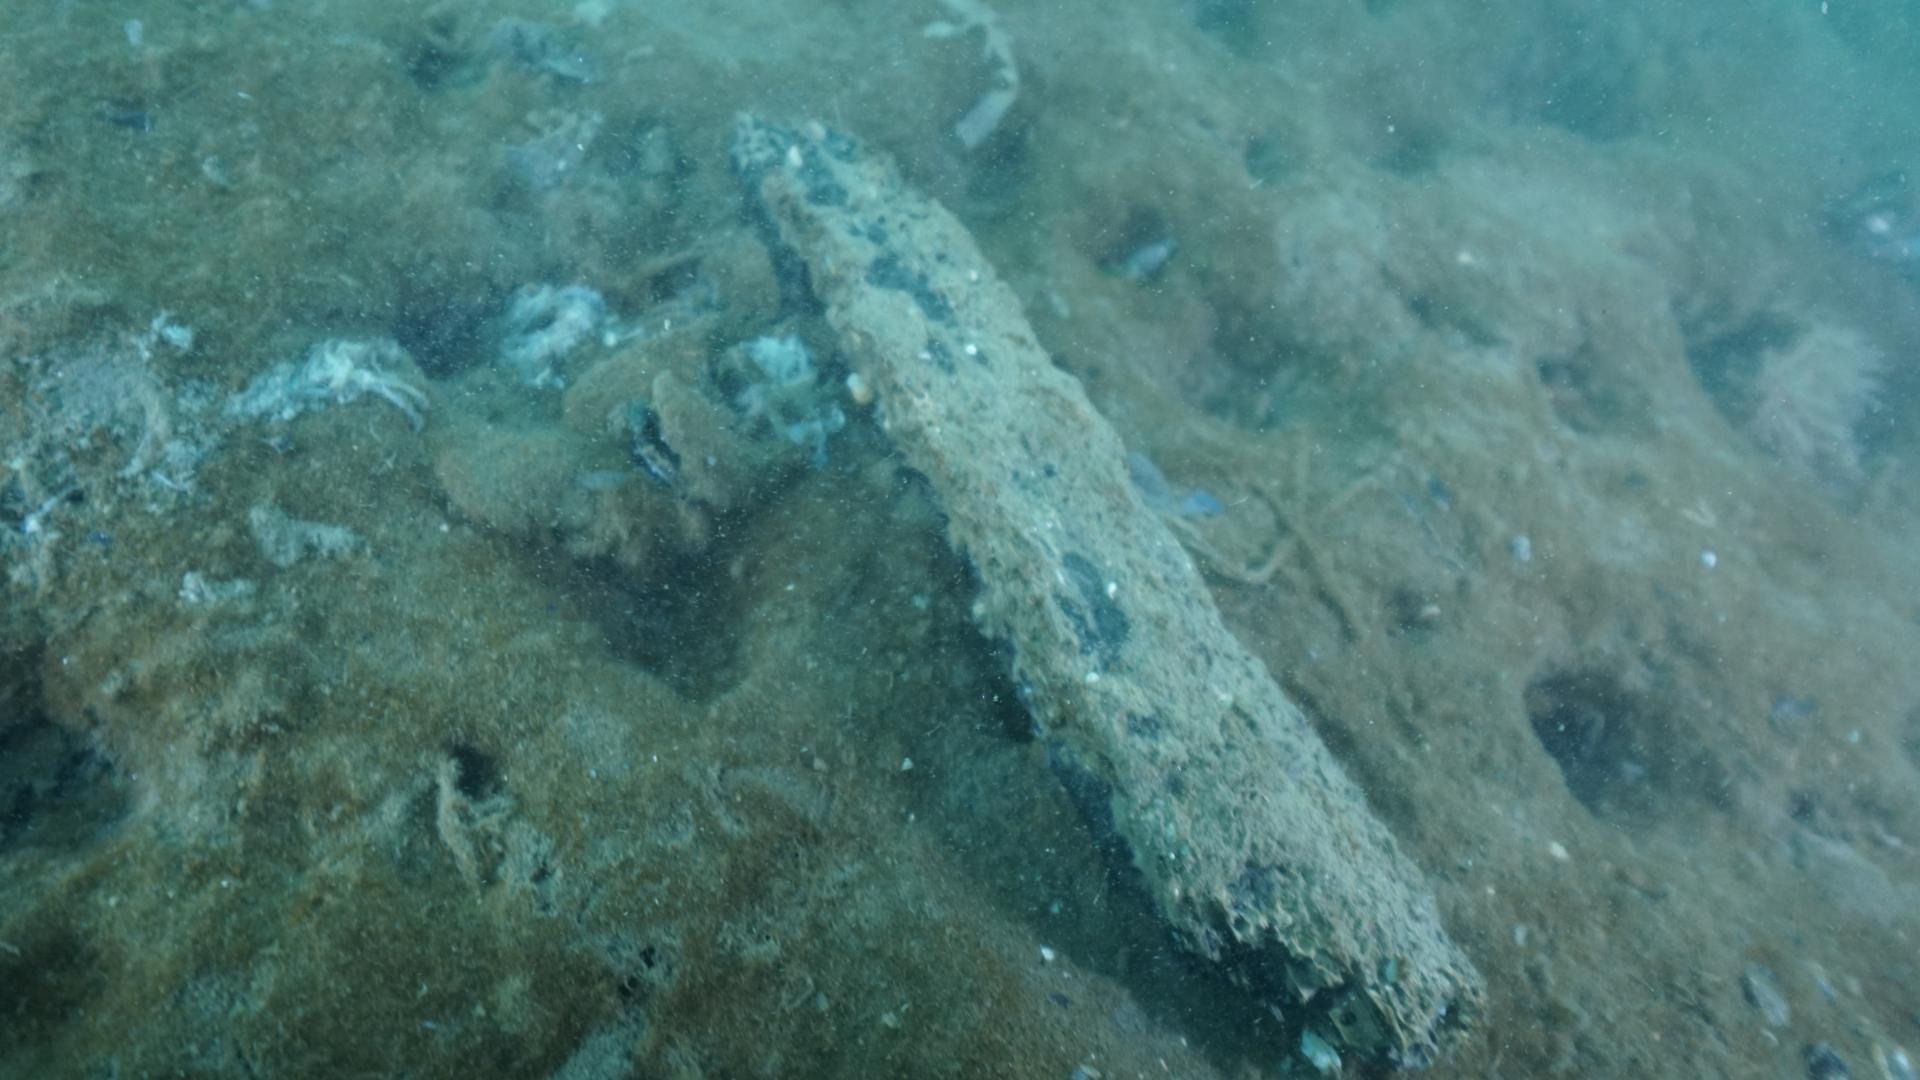wood: (731, 108, 1502, 1080)
